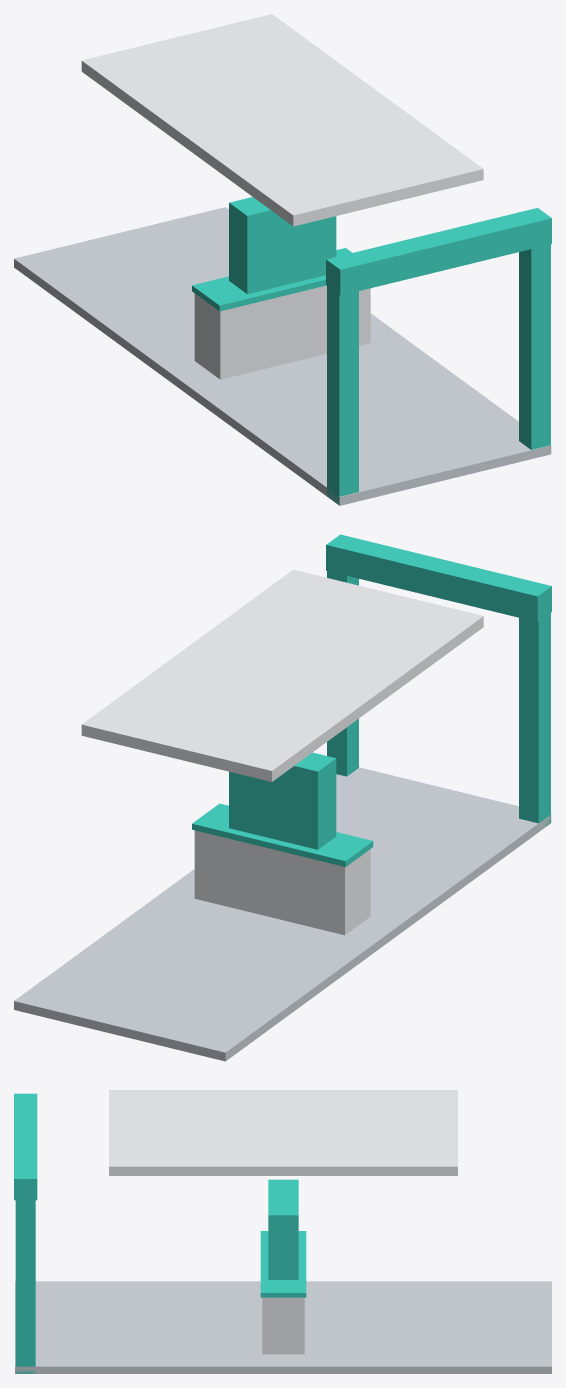
3 views of the same model, one above another, from view 1: azimuth 30°, elevation 25°; view 2: azimuth 150°, elevation 25°; view 3: azimuth 270°, elevation 25° (orthographic). The views are drawn at different scales.
Parts seen in each view (by area): view 1: Exhibition Booth Concept; view 2: Exhibition Booth Concept; view 3: Exhibition Booth Concept.
Part boxes in pixels (left/top/right/bottom): Exhibition Booth Concept: left=14, top=14, right=551, bottom=505; Exhibition Booth Concept: left=14, top=534, right=551, bottom=1061; Exhibition Booth Concept: left=14, top=1090, right=551, bottom=1373.
Bounding box in the file's own units: 3 × 3.34 × 8.01.
